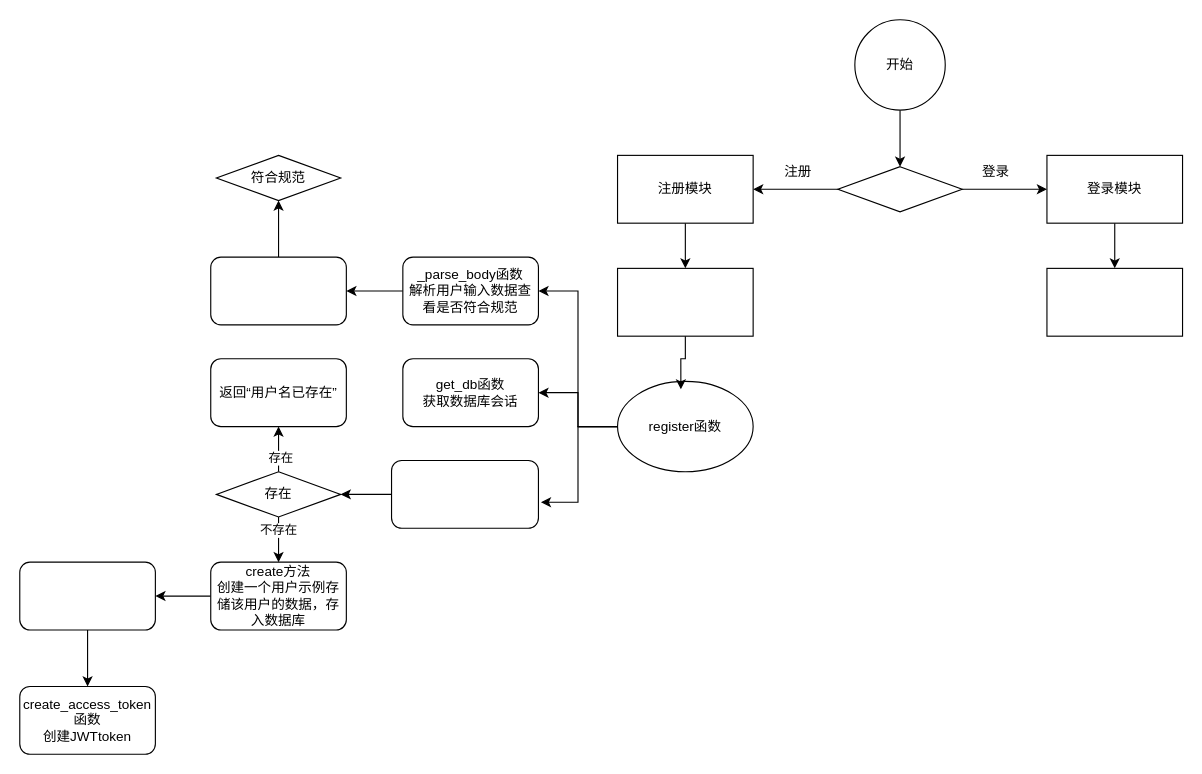
Image size: 1202x774. Some labels were removed from this diagram. Each missing label, with the centre of its shape:
"_token_response函数 包装 包装token响应体" belongs at point 87,595.
"find_by_username方法 查找该用户输入的用户名是否存在" belongs at point 464,493.
"RegisterRequest函数 规范用户输入数据的格式" belongs at point 278,290.
"注册/登录" belongs at point 899,189.
"注册路由 /api/v1/auth/register" belongs at point 684,301.
"登陆路由 /api/v1/auth/login" belongs at point 1114,301.
